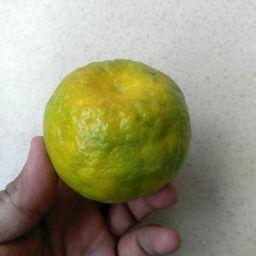orange: (42, 58, 193, 204)
